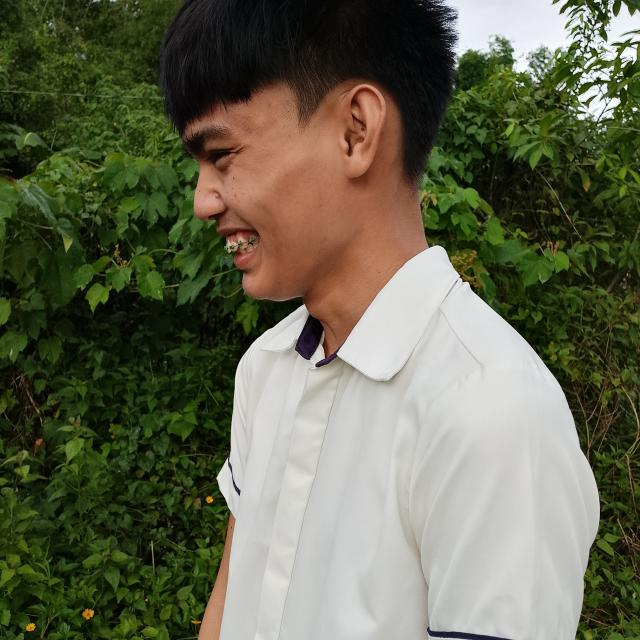education_male_uniform: (142, 338, 514, 640), (364, 382, 628, 640), (178, 274, 544, 457), (328, 237, 591, 395), (239, 278, 338, 404)
